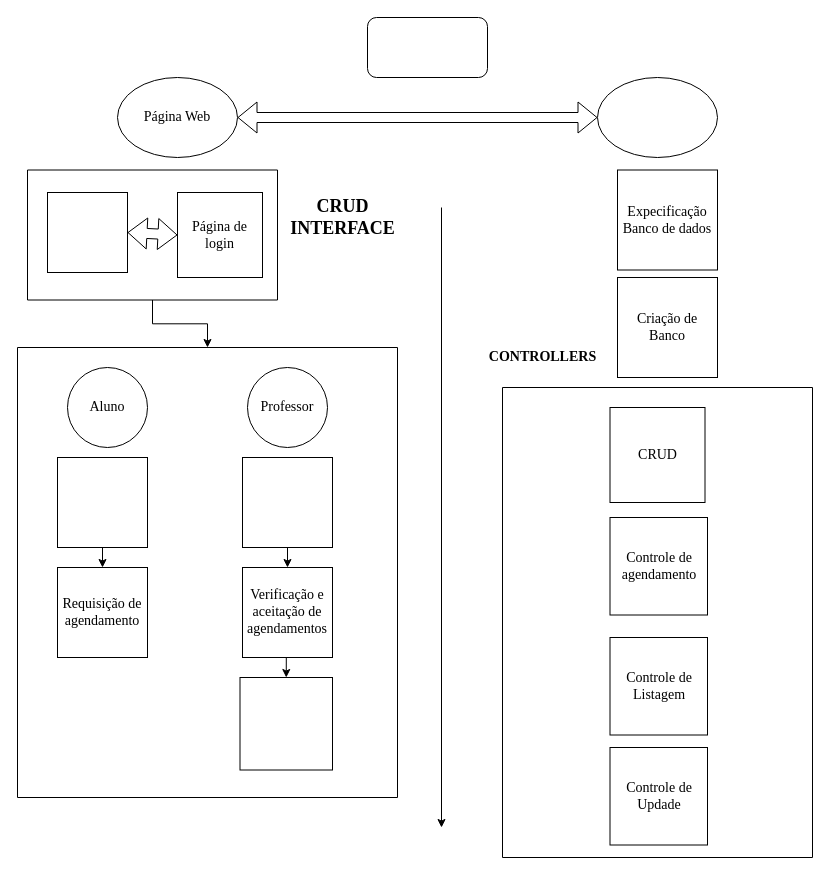
This 830x875 diagram has some shape labels left out. Here are the shapes that lost their labels. From the top down, the centre of each, then its label:
point 427,47: Diagrama de Processo
point 657,117: Rest API
point 87,232: Página de cadastro
point 102,502: Página de lista de professores
point 287,502: Lista de agendamentos Feitos
point 285,723: Página de update de horários e dias
